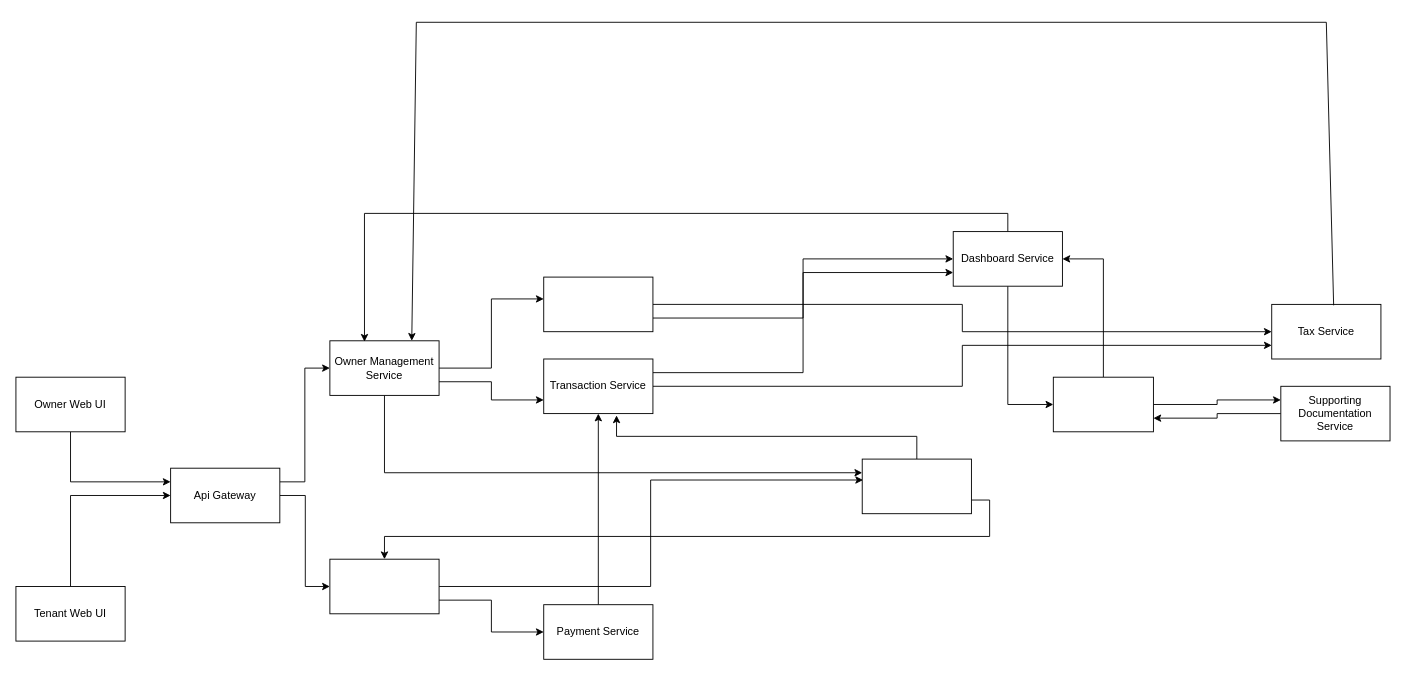
Image size: 1406x675. Some labels were removed from this diagram. Here are the shapes that lost their labels. From the top down, the centre of each, then its label:
At point (598, 304): "Property Service".
At point (1102, 404): "Audit Service".
At point (916, 486): "Repair Service".
At point (384, 586): "Tenant Management Service".
